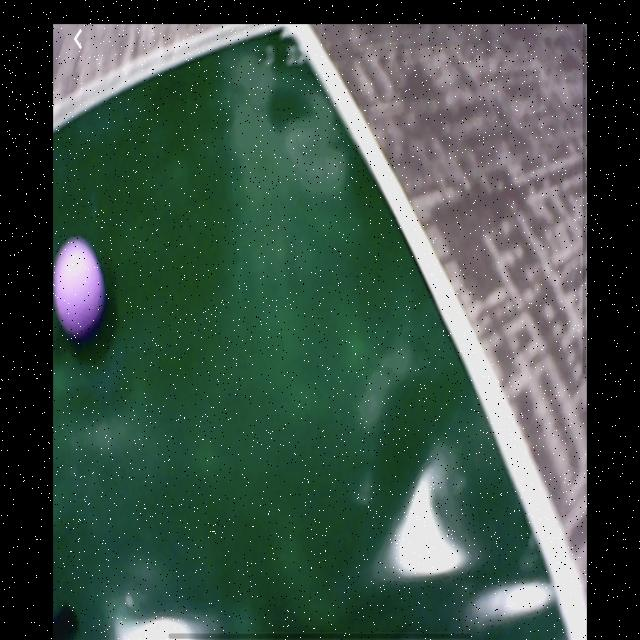ball: (55, 237, 107, 332)
